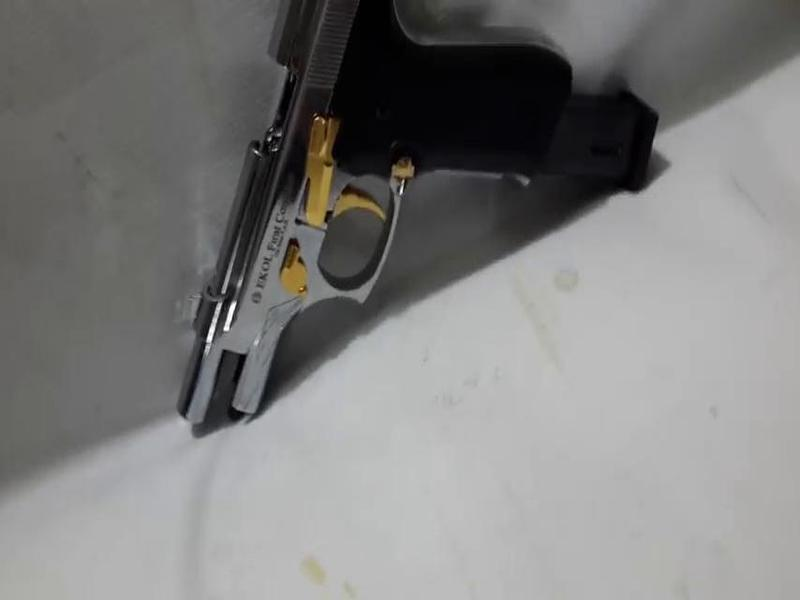Pistola: (154, 1, 678, 447)
